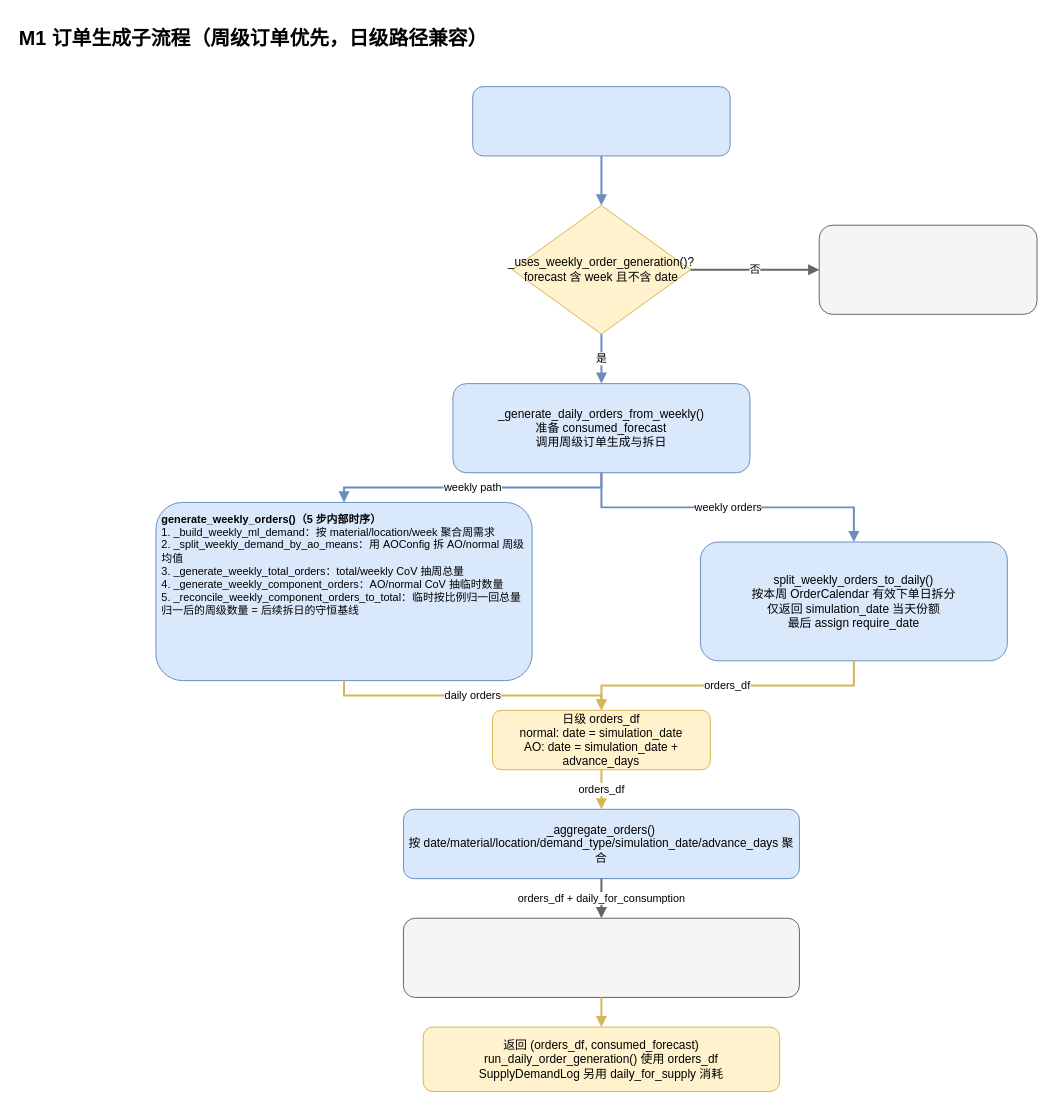
Some shapes in this 1054 by 1109 pixel diagram are drawn without their labels. Here are the shapes that lost their labels. From the top down, the centre of each, then its label:
the point at 601,121: generate_daily_orders()
the point at 927,269: 否：日级兼容路径 判断 OrderCalendar.date == sim_date 计算 7 天平均需求 生成 AO / normal
the point at 600,957: consume_orders() 使用 daily_for_consumption 返回 consumed_forecast AO 优先，再 normal
